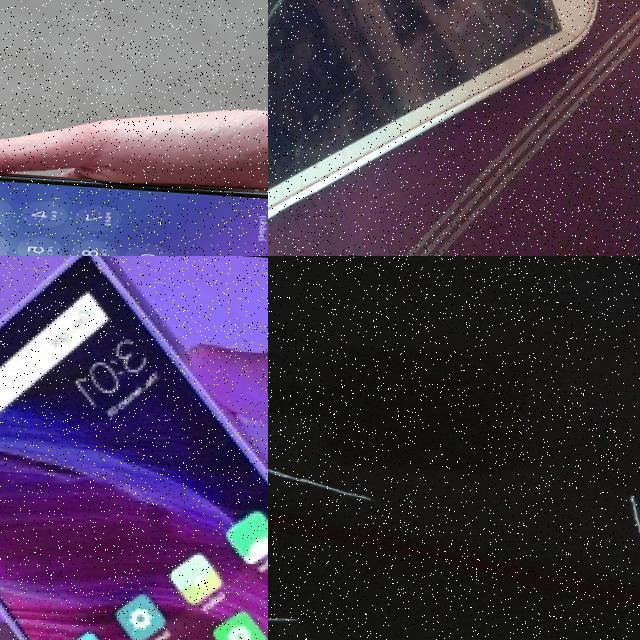scratch: (268, 447, 390, 499), (268, 603, 312, 624)
screen crack: (268, 0, 520, 142), (518, 0, 608, 60)
